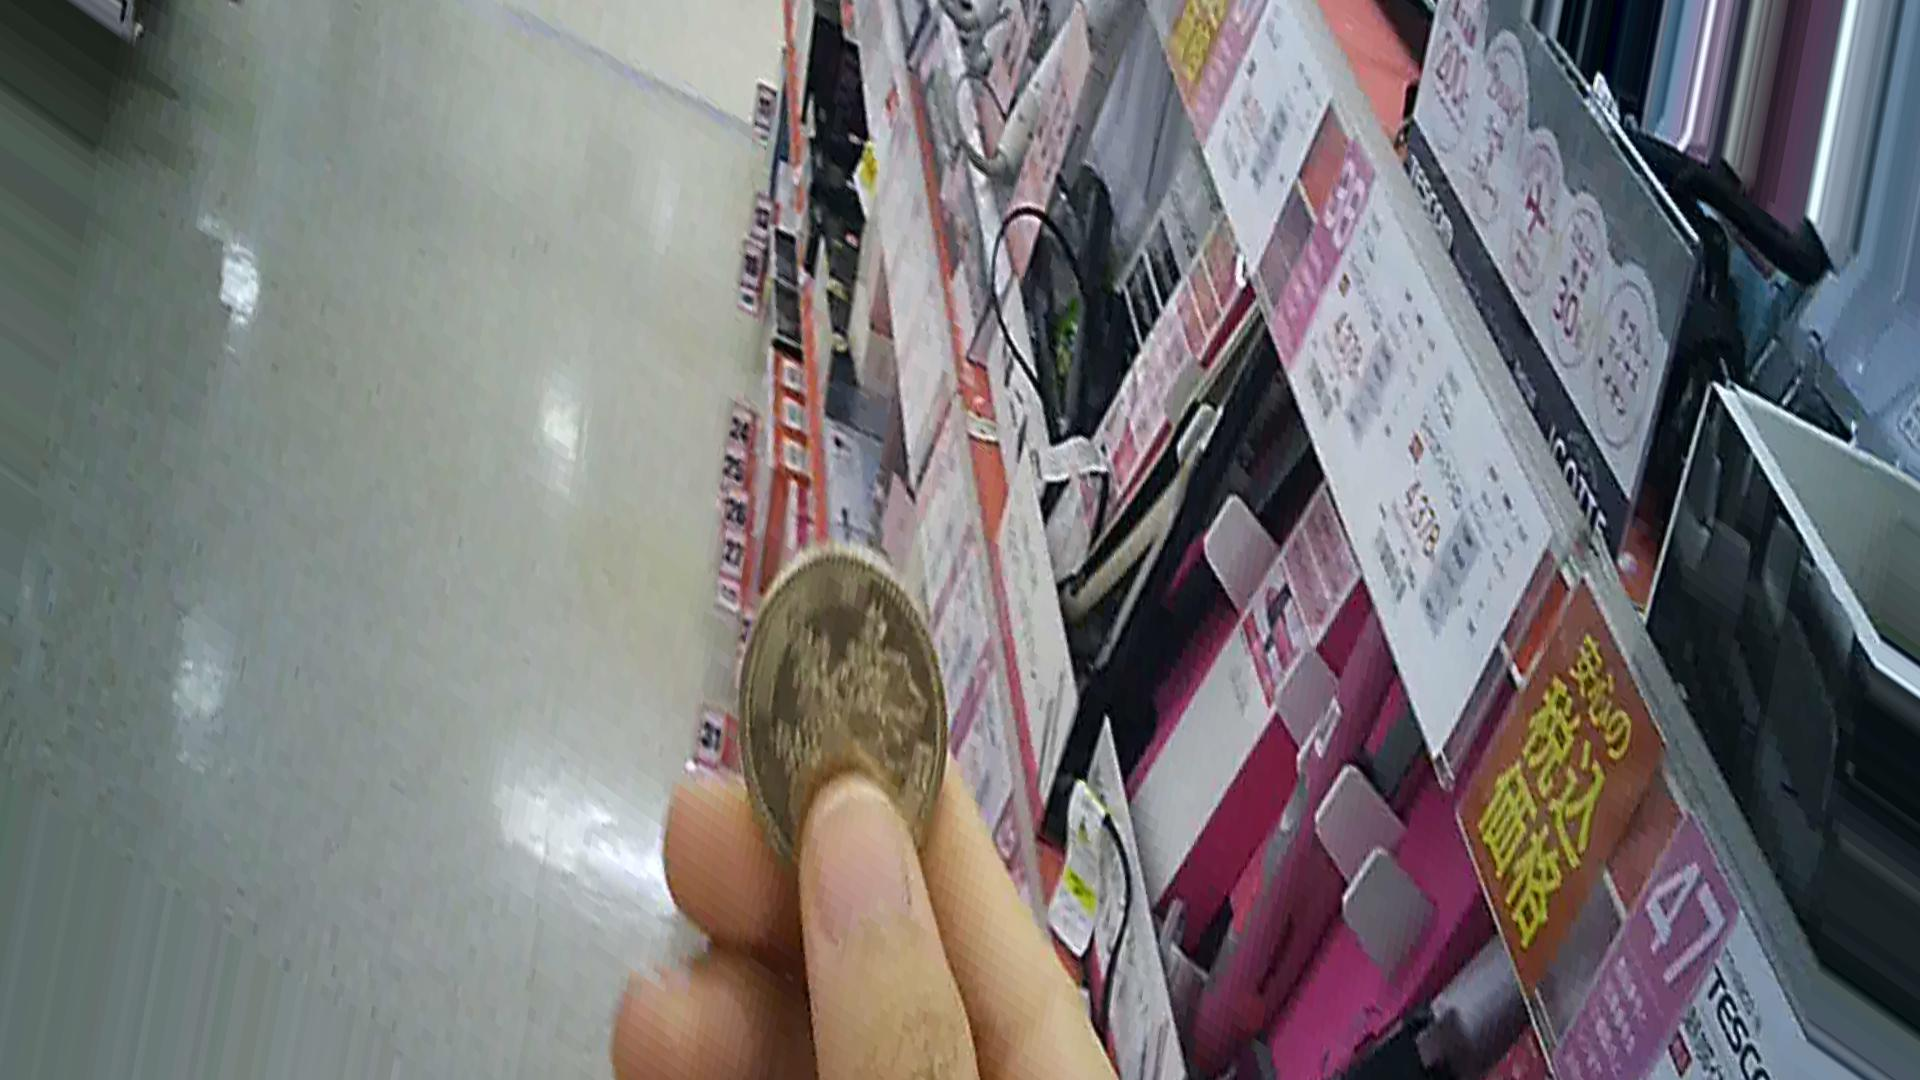500 Yen: (723, 543, 956, 887)
